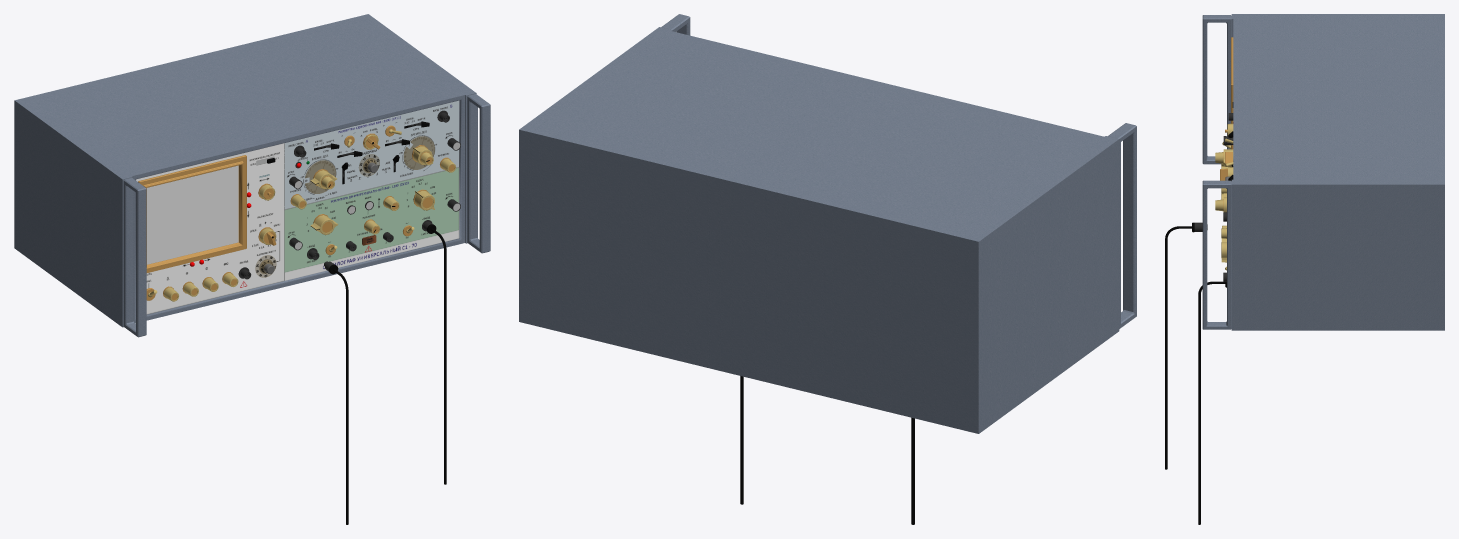
File: осцилограф.FBX
The picture shows the model from 3 angles, left to right: view 1: azimuth 30°, elevation 25°; view 2: azimuth 150°, elevation 25°; view 3: azimuth 270°, elevation 25°; orthographic projection. The views are drawn at different scales.
Parts seen in each view (by area): view 1: Box004, Box001, экран, Cylinder037, Cylinder038, Cylinder025, Cylinder027; view 2: Box004; view 3: Box004, Cylinder037, Cylinder038.
Part boxes in pixels (bbox=[...]): Box004: bbox=[14, 14, 490, 337]; Box001: bbox=[136, 100, 459, 314]; экран: bbox=[147, 165, 238, 264]; Cylinder037: bbox=[324, 261, 348, 524]; Cylinder038: bbox=[423, 221, 446, 484]; Cylinder025: bbox=[305, 160, 336, 193]; Cylinder027: bbox=[403, 136, 434, 169]; Box004: bbox=[519, 14, 1136, 433]; Box004: bbox=[1202, 14, 1444, 330]; Cylinder037: bbox=[1165, 222, 1207, 469]; Cylinder038: bbox=[1198, 281, 1226, 524].
Size of the model in its own units: 78.22 by 77.59 by 54.26.
